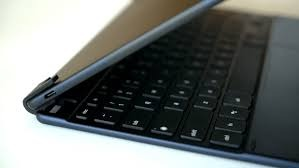keyboard: (68, 15, 277, 155)
